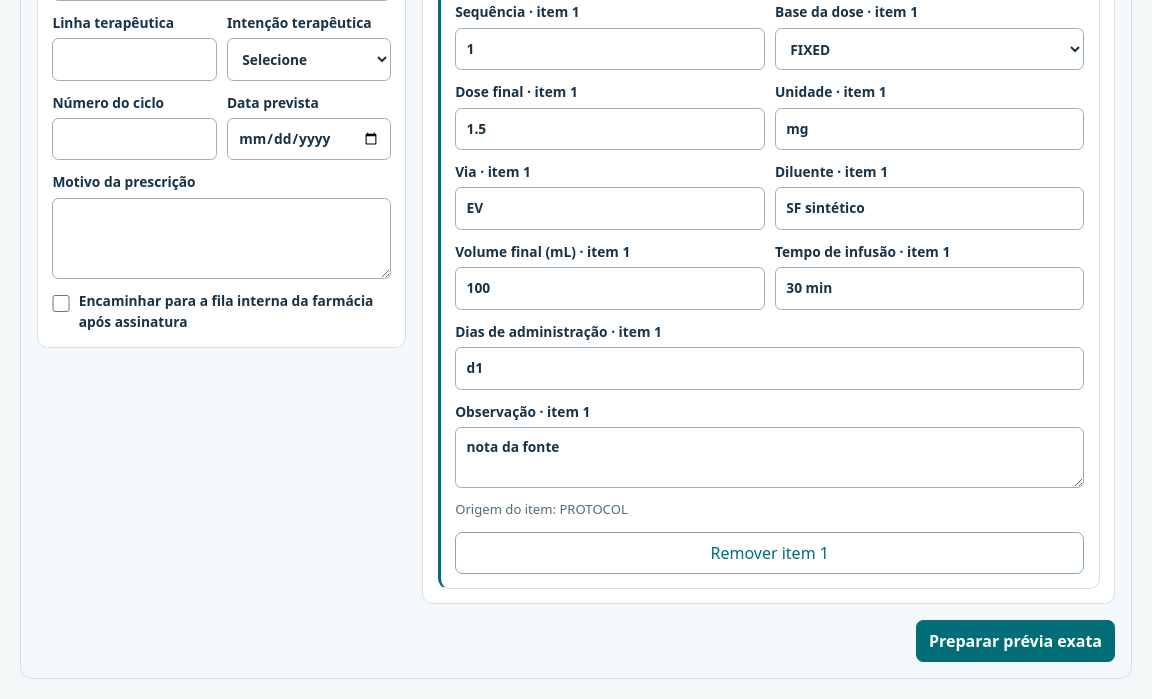
Scenario: EditorPrescricaoExecutavel › exige escolha da linha e intenção quando a base não contém episódio confirmado
(page scrolled)
Expected: the number field labelled "Linha terapêutica" is empty, [52, 38, 216, 81]
Expected: the dropdown labelled "Intenção terapêutica" shows "Selecione", [227, 38, 391, 81]
Step 1. Click the button "Preparar prévia exata" → (1016, 641), box [916, 620, 1115, 662]
(page scrolled)
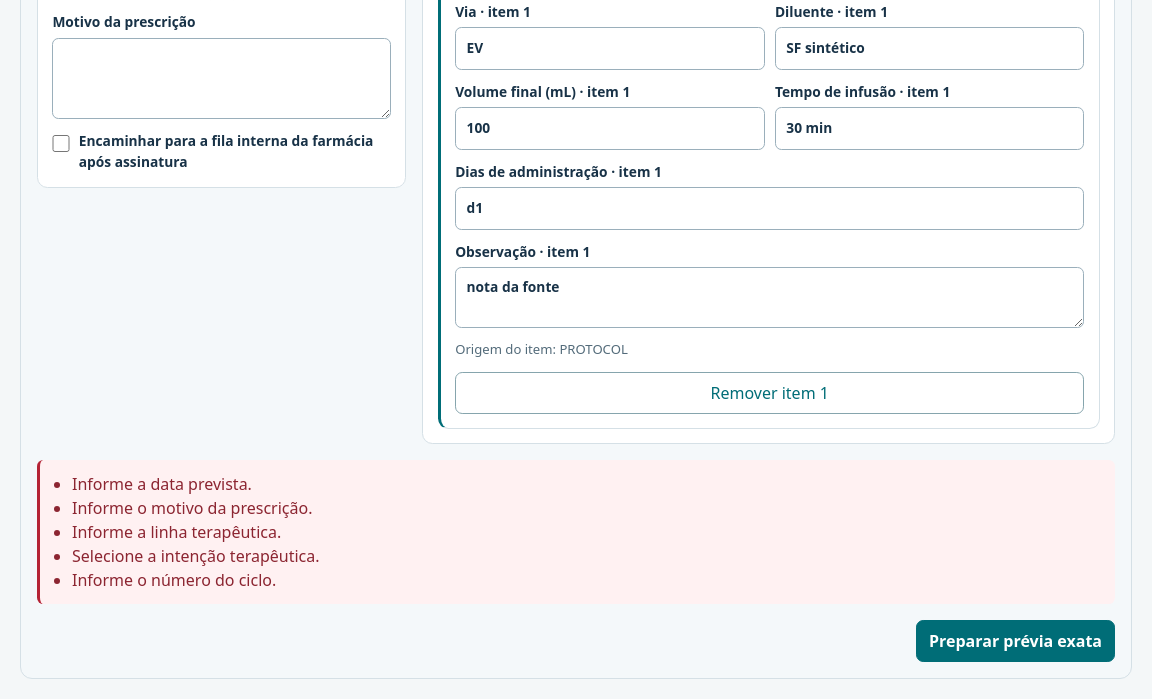
Now the message shows "selecione a intenção terapêutica", box [72, 545, 320, 567]
